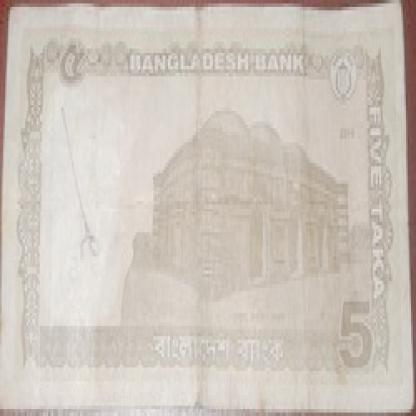Five Taka: (359, 94, 393, 305), (334, 288, 379, 402), (55, 35, 85, 94)
